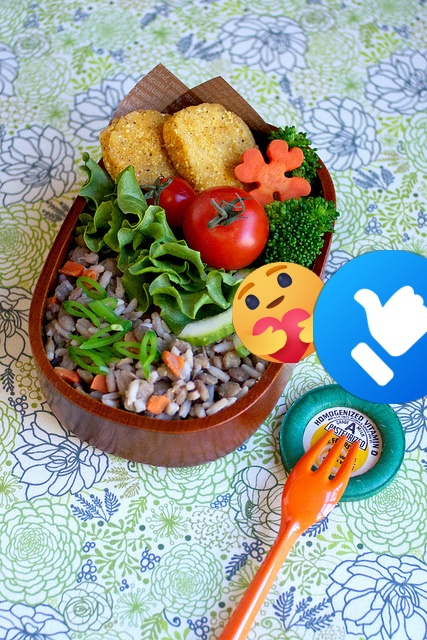care: (232, 262, 333, 363)
like: (313, 250, 427, 404)
